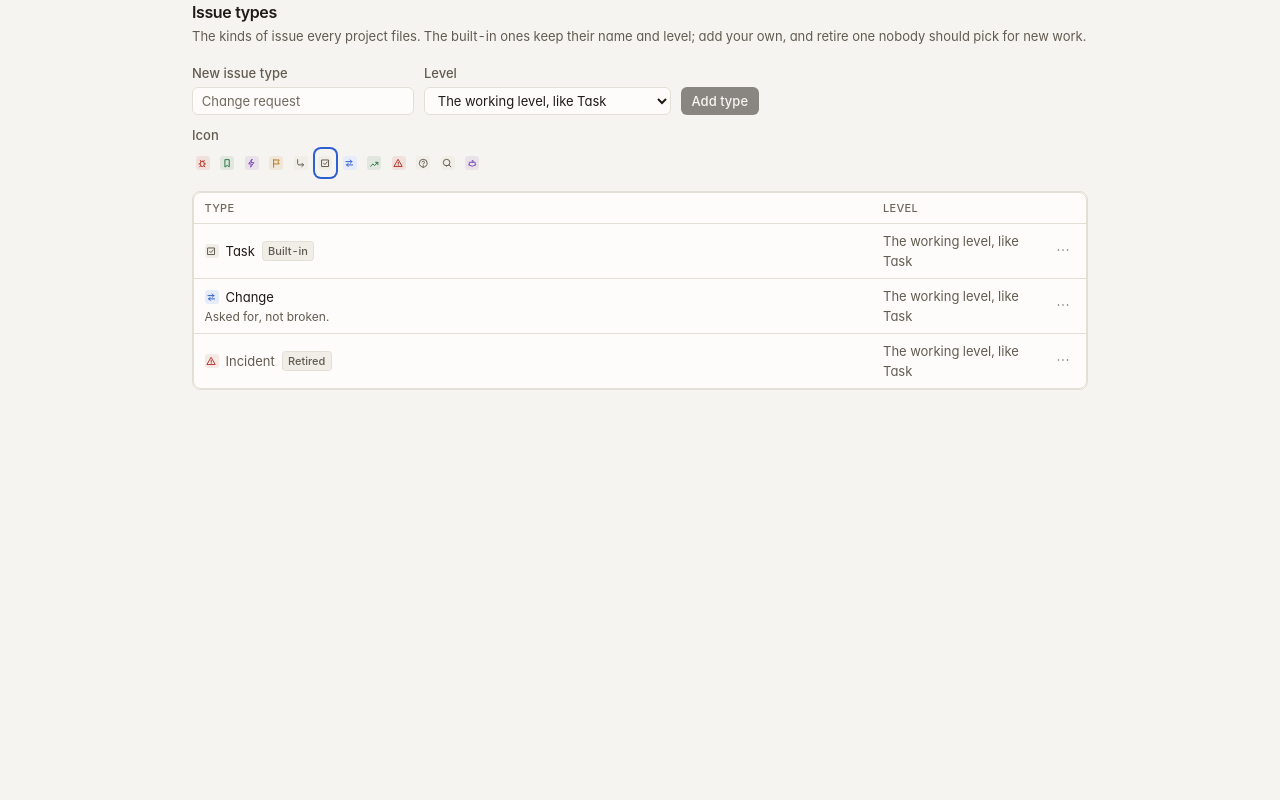
Test: the issue types page › keeps a built-in type's name and level out of reach while editing
Click the button named "Actions for Task" at [1063, 250], box [1051,238,1076,263]
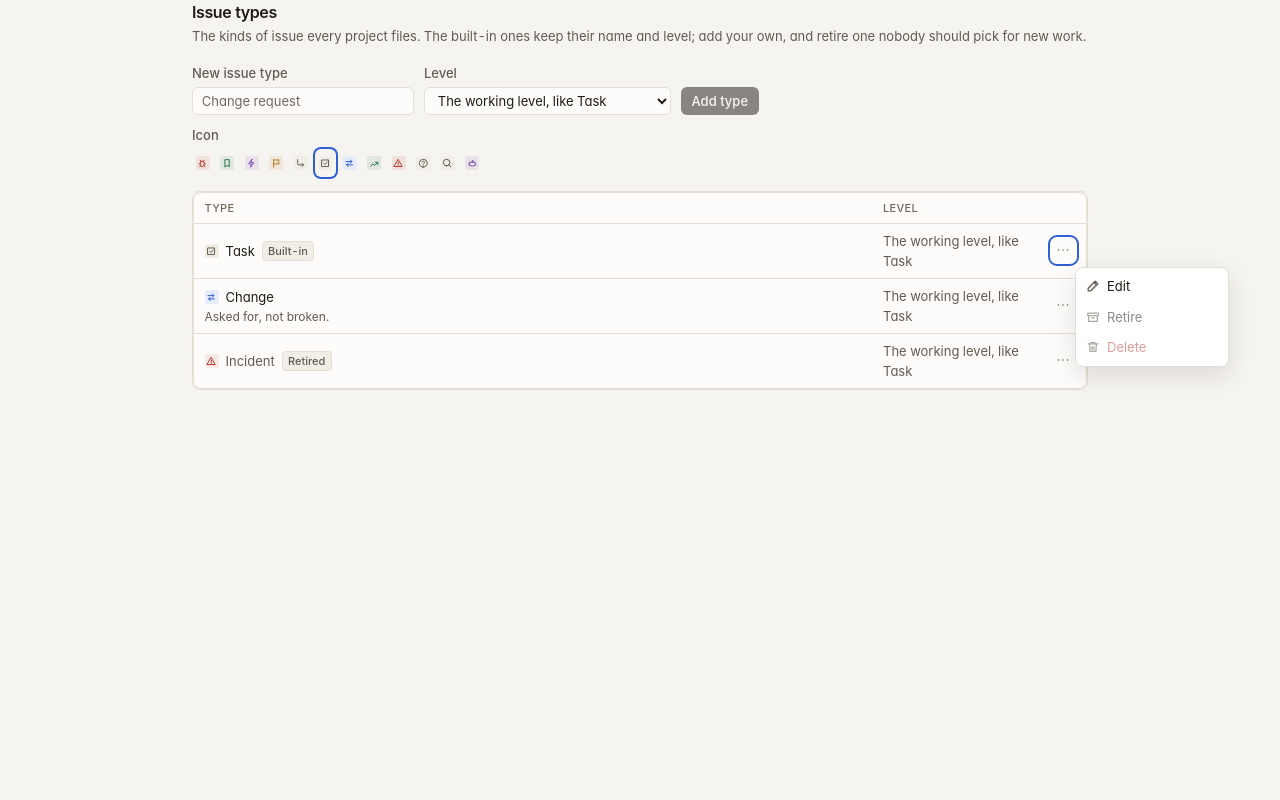
Click the menu item "Edit" at [1152, 286], box [1079,271,1224,302]
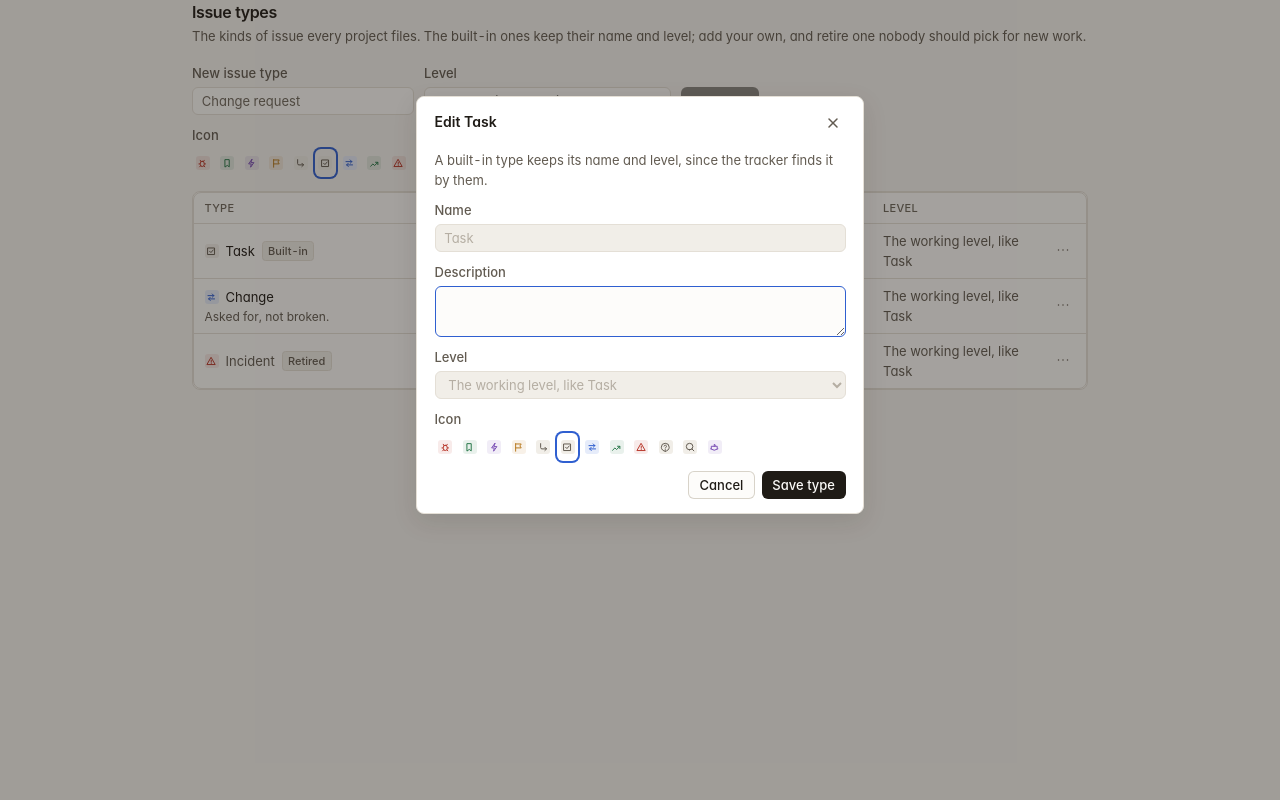
Check: the field labelled "Name" is disabled, box [434,224,846,252]
Check: the dropdown labelled "Level" is disabled, box [434,370,846,398]
Check: the text "keeps its name and level" is shown, box [434,152,833,188]
